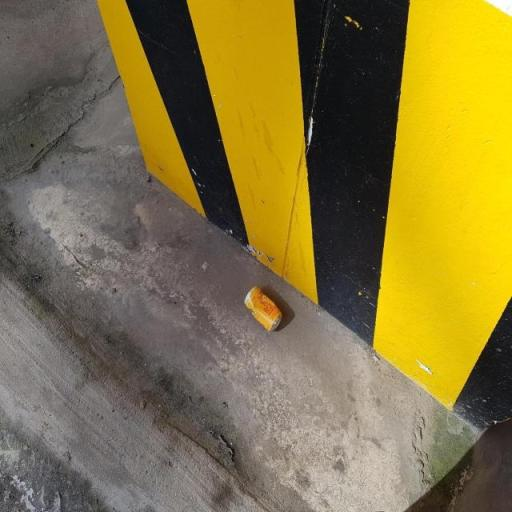metal: (225, 252, 303, 360)
